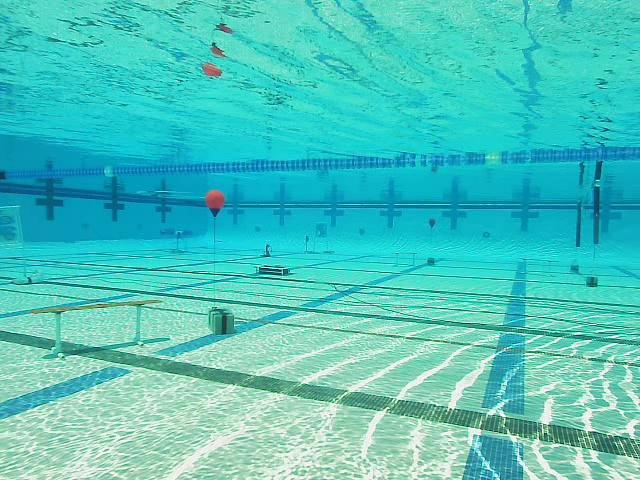buoy: (205, 190, 225, 218)
